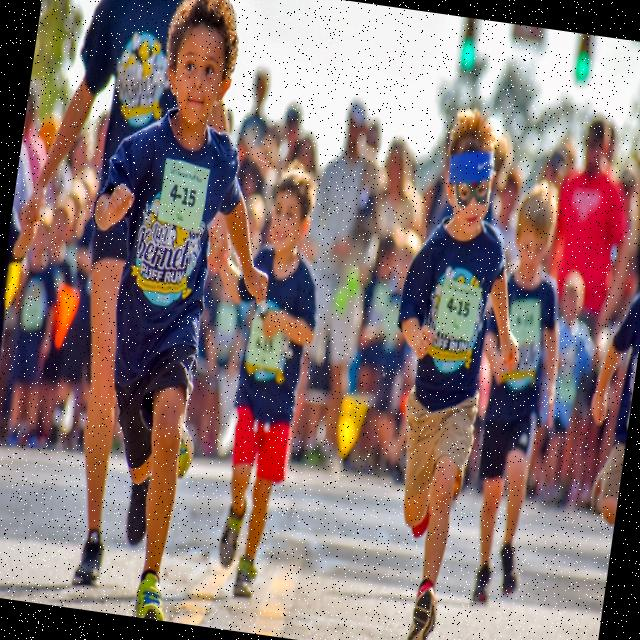Person: (40, 0, 309, 629), (0, 0, 242, 599), (351, 99, 553, 640), (171, 156, 338, 604), (458, 182, 586, 610), (558, 190, 640, 640)
